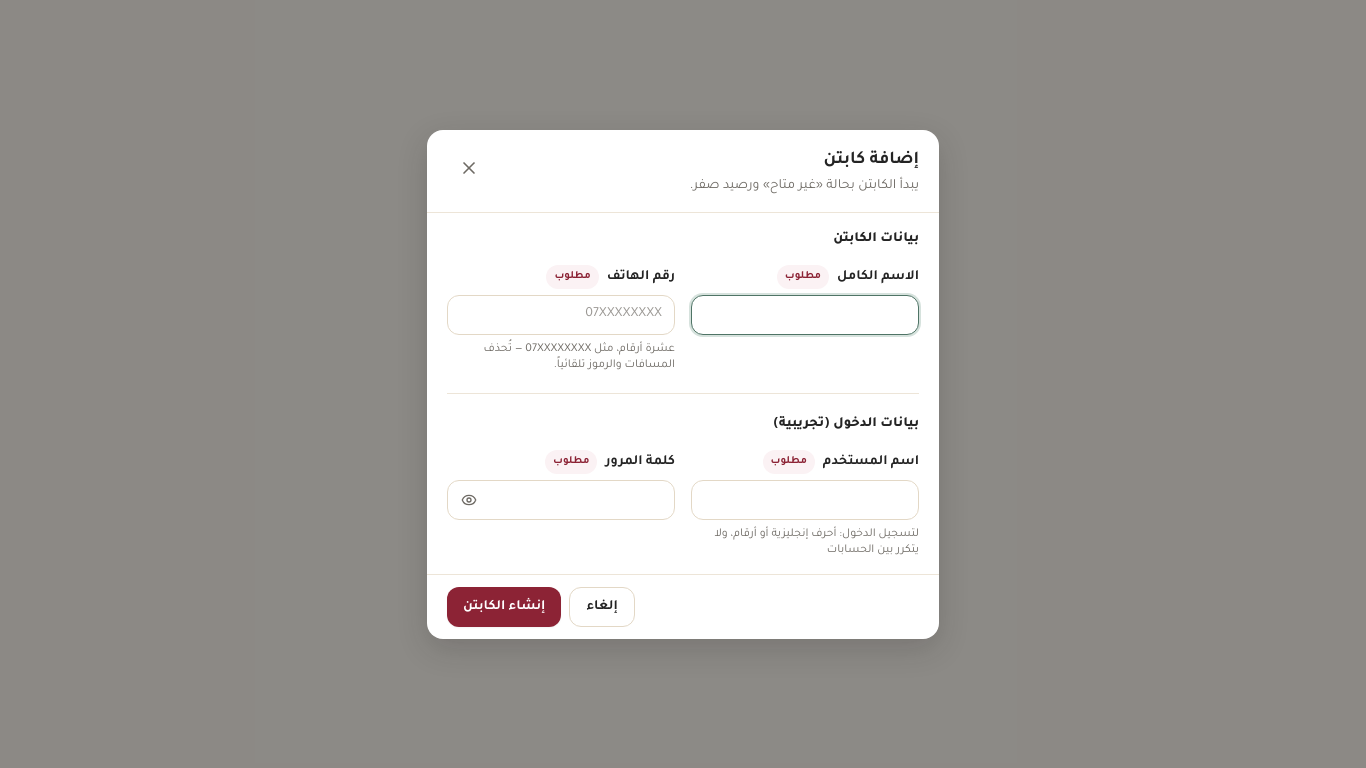
Scenario: Create Merchant / Captain dialogs (owner 2026-11-27) › an empty submit shows inline errors and focuses the first invalid field
Step 1. Click the button "إنشاء الكابتن" → (504, 606), box 447,586 -> 561,626
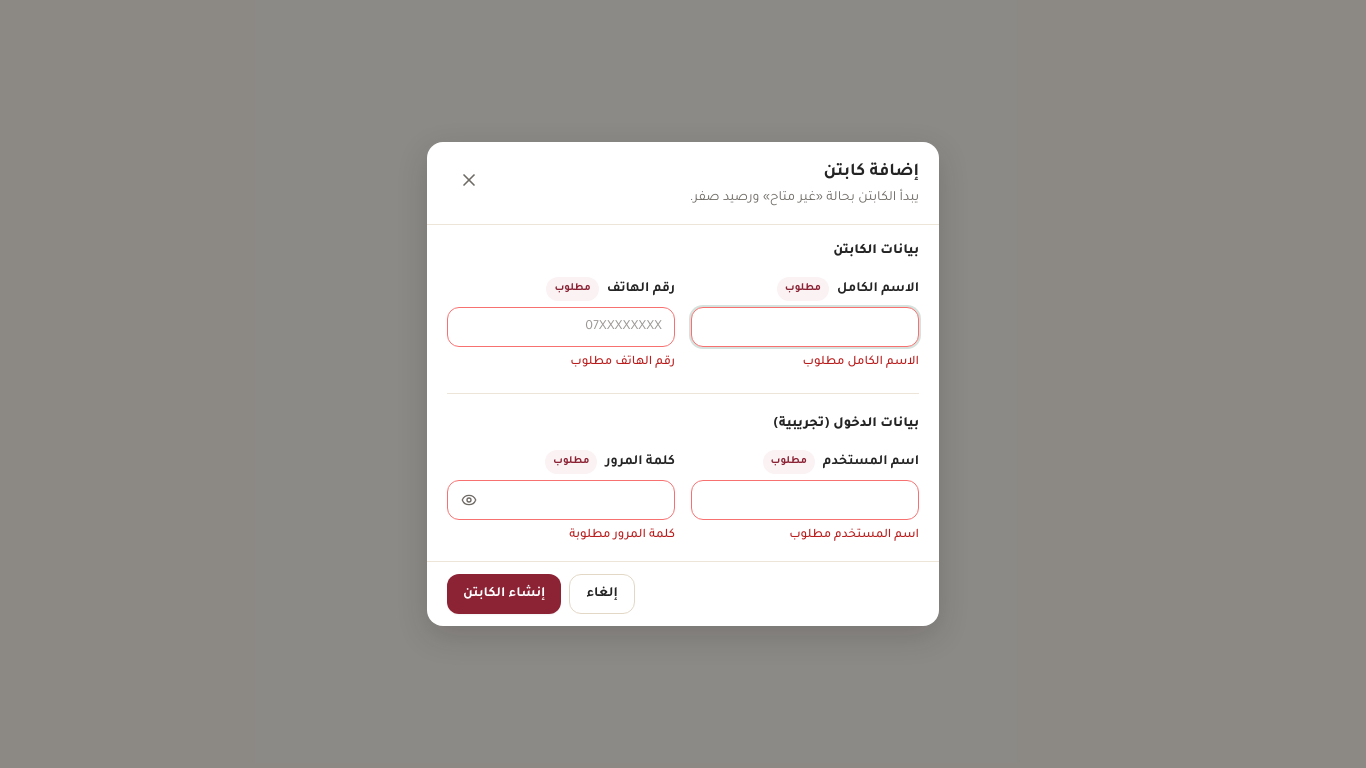
Check: the text "الاسم الكامل مطلوب" is shown, box 802,356 -> 919,369
